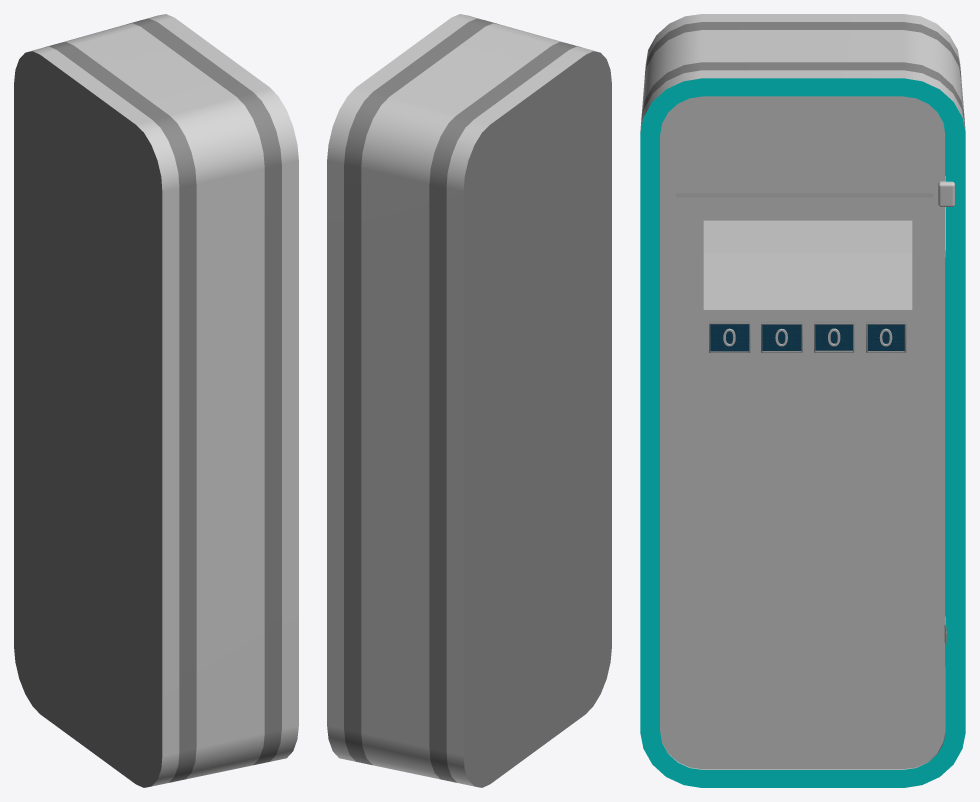
File: locker-idel.fbx
The picture shows the model from 3 angles, left to right: view 1: azimuth 30°, elevation 25°; view 2: azimuth 150°, elevation 25°; view 3: azimuth 270°, elevation 25°; orthographic projection. The views are drawn at different scales.
Visible parts, largest first — view 1: locker_base; view 2: locker_base; view 3: door1, locker_base.
Boxes of the visible parts, box(x1,y1,x2,y2) form: locker_base: box(14, 14, 298, 787); locker_base: box(327, 14, 611, 787); door1: box(660, 96, 946, 769); locker_base: box(640, 14, 965, 787).
Bounding box in the file's own units: 0.5025 × 2.07 × 0.8602.
6 materials, 1 textured.
